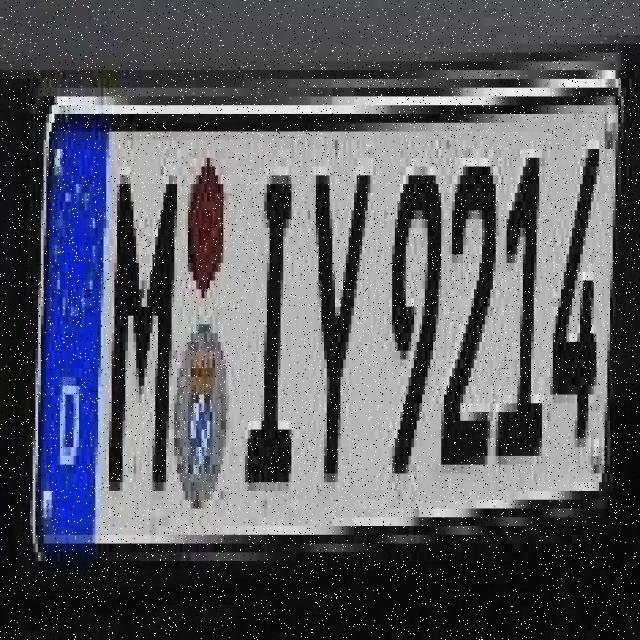licenseplate: (28, 83, 628, 578)
